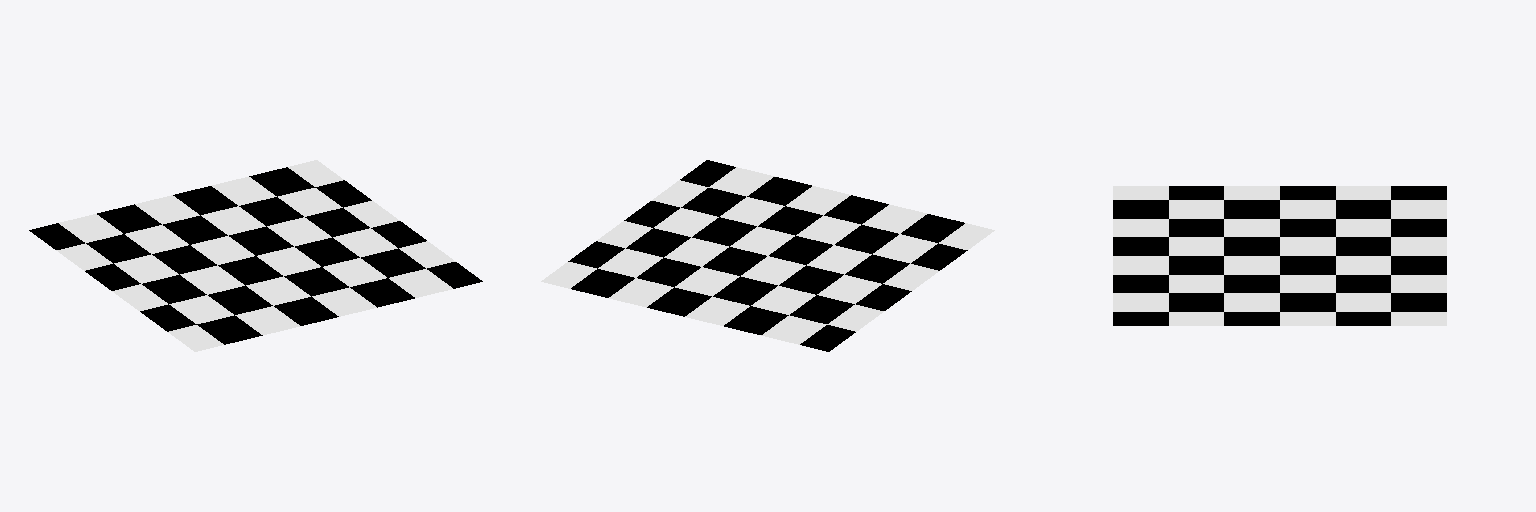
3 views of the same model, side by side, from view 1: azimuth 30°, elevation 25°; view 2: azimuth 150°, elevation 25°; view 3: azimuth 270°, elevation 25° (orthographic).
Parts seen in each view (by area): view 1: chessboard; view 2: chessboard; view 3: chessboard.
Part boxes in pixels (x1,y1,x2,y2): chessboard: (29,160,482,351); chessboard: (541,160,994,351); chessboard: (1113,186,1446,325).
Size of the model in its own units: 0.1 by 0 by 0.1.
1 materials, 1 textured.